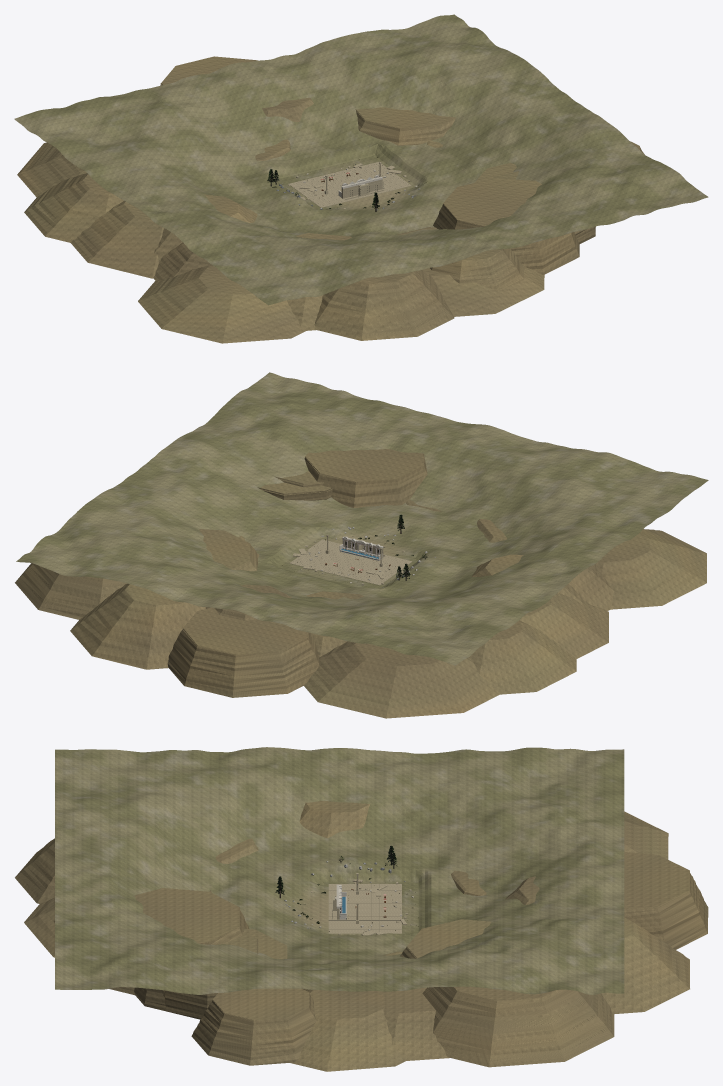
The model's file is sagalassos-antoninler-cesmesi-baked.glb.
3 views of the same model, one above another, from view 1: azimuth 30°, elevation 25°; view 2: azimuth 150°, elevation 25°; view 3: azimuth 270°, elevation 25° (orthographic). The views are drawn at different scales.
Visible parts, largest first — view 1: sagalassos-antoninler-cesmesi-terrain, sagalassos-antoninler-cesmesi-ground, sagalassos-antoninler-cesmesi-near; view 2: sagalassos-antoninler-cesmesi-terrain, sagalassos-antoninler-cesmesi-ground, sagalassos-antoninler-cesmesi-near; view 3: sagalassos-antoninler-cesmesi-terrain, sagalassos-antoninler-cesmesi-ground, sagalassos-antoninler-cesmesi-near, sagalassos-antoninler-cesmesi-flora.
Part boxes in pixels (bbox=[...]): sagalassos-antoninler-cesmesi-terrain: bbox=[14, 14, 708, 305]; sagalassos-antoninler-cesmesi-ground: bbox=[17, 83, 644, 343]; sagalassos-antoninler-cesmesi-near: bbox=[83, 56, 639, 294]; sagalassos-antoninler-cesmesi-terrain: bbox=[16, 372, 708, 665]; sagalassos-antoninler-cesmesi-ground: bbox=[15, 454, 706, 718]; sagalassos-antoninler-cesmesi-near: bbox=[125, 449, 649, 666]; sagalassos-antoninler-cesmesi-terrain: bbox=[55, 747, 624, 994]; sagalassos-antoninler-cesmesi-ground: bbox=[15, 803, 708, 1071]; sagalassos-antoninler-cesmesi-near: bbox=[134, 801, 689, 1020]; sagalassos-antoninler-cesmesi-flora: bbox=[275, 845, 405, 928].
Bounding box in the file's own units: 380 × 37.68 × 379.
27 materials, 19 textured.
